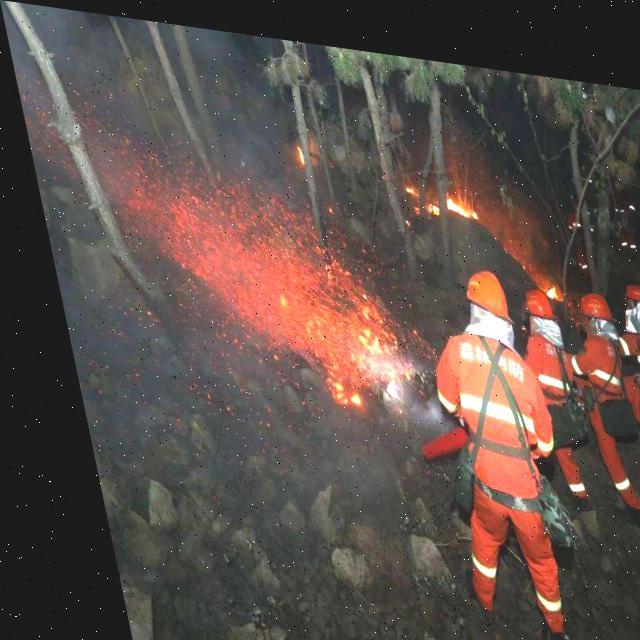Fire: (126, 151, 406, 403), (404, 166, 482, 216), (530, 256, 556, 290), (289, 132, 300, 157)
